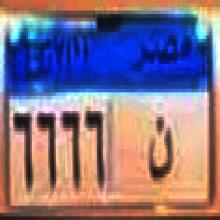6: (33, 102, 57, 182), (60, 106, 81, 187), (85, 110, 106, 189), (13, 110, 32, 190)
noon: (145, 107, 175, 186)
